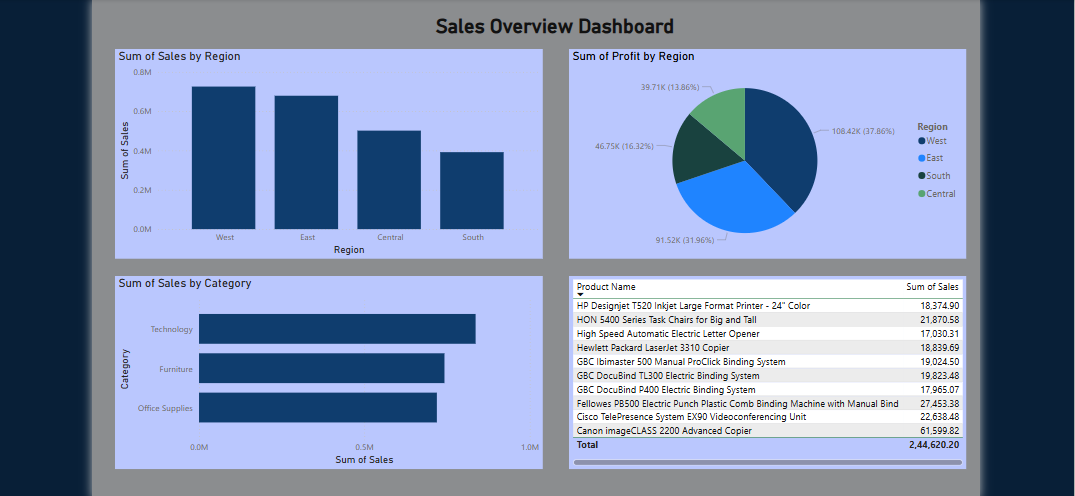

This screenshot's page, from the dashboard's own definition file:
{"tool":"powerbi","page":{"name":"Page 1","canvas":[1280,720],"ordinal":0},"visuals":[{"type":"columnChart","fields":{"Category":["sales_by_region_output.Region"],"Y":["Sum(sales_by_region_output.Sales)"]},"box":[33.1,72,616.3,302.4],"z":0},{"type":"pieChart","fields":{"Y":["Sum(profit_by_region_output.Profit)"],"Category":["profit_by_region_output.Region"]},"box":[686.9,72,571.7,302.4],"z":1},{"type":"barChart","fields":{"Category":["sales_by_category_output.Category"],"Y":["Sum(sales_by_category_output.Sales)"]},"box":[33.1,398.9,616.3,277.9],"z":2},{"type":"tableEx","fields":{"Values":["top_10_products_output.Product Name","Sum(top_10_products_output.Sales)"]},"box":[686.9,398.9,571.7,277.9],"z":3},{"type":"textbox","title":"Sales Overview Dashboard","box":[180,21.6,973.4,37.4],"z":4}]}

Visuals, with their boxes on the page's 1280x720 design canvas (x1, y1, x2, y2). These are canvas units, not pixel positions in the 1075x496 screenshot, which may show the page scaled, cropped or inside an application window:
columnChart - sales_by_region_output.Region x Sum(sales_by_region_output.Sales): (33,72,649,374)
pieChart - Sum(profit_by_region_output.Profit) x profit_by_region_output.Region: (687,72,1259,374)
barChart - sales_by_category_output.Category x Sum(sales_by_category_output.Sales): (33,399,649,677)
tableEx - top_10_products_output.Product Name x Sum(top_10_products_output.Sales): (687,399,1259,677)
"Sales Overview Dashboard" textbox: (180,22,1153,59)
